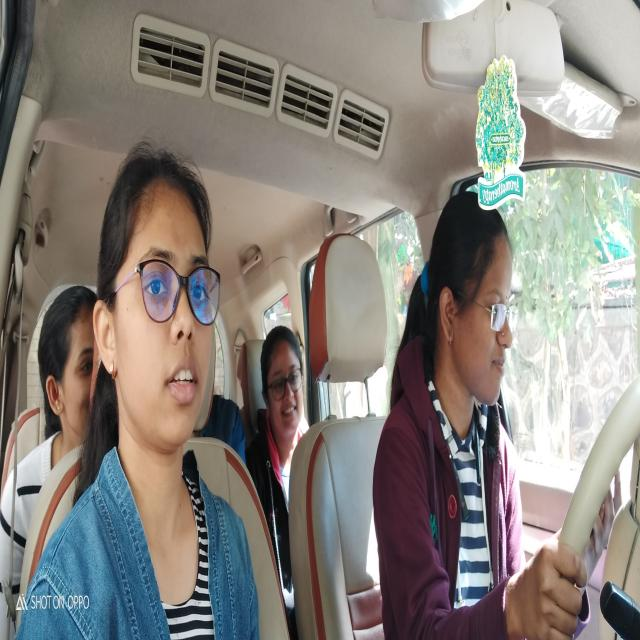person: (92, 149, 224, 465), (428, 190, 513, 417), (41, 286, 96, 423), (262, 321, 305, 439)
